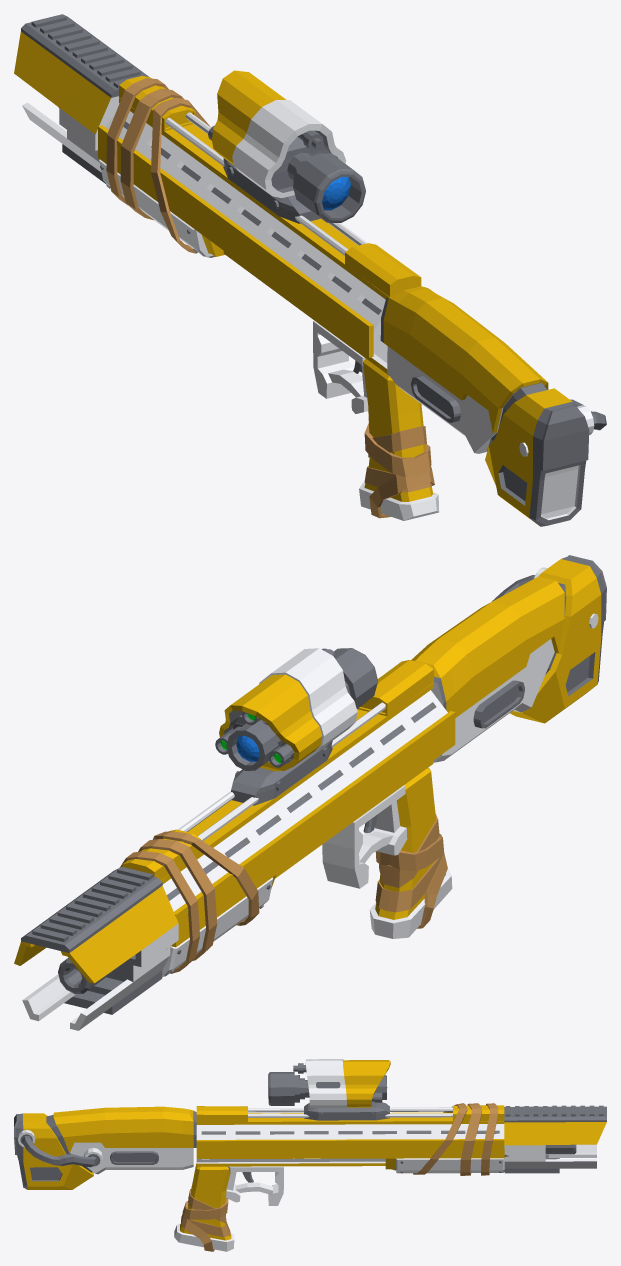
The model's file is gun.glb.
3 views of the same model, one above another, from view 1: azimuth 30°, elevation 25°; view 2: azimuth 150°, elevation 25°; view 3: azimuth 270°, elevation 25° (orthographic). The views are drawn at different scales.
Visible parts, largest first — view 1: Energy_Rifle_Metal_Yellow_0, Energy_Rifle_Metal_White_0, Energy_Rifle_Metal_Grey_0, Energy_Rifle_Bandage_0, Energy_Rifle_Lens_Blue_0; view 2: Energy_Rifle_Metal_Yellow_0, Energy_Rifle_Metal_White_0, Energy_Rifle_Metal_Grey_0, Energy_Rifle_Bandage_0; view 3: Energy_Rifle_Metal_Yellow_0, Energy_Rifle_Metal_White_0, Energy_Rifle_Metal_Grey_0, Energy_Rifle_Bandage_0.
Boxes of the visible parts, bbox=[...] form: Energy_Rifle_Metal_Yellow_0: bbox=[14, 31, 571, 523]; Energy_Rifle_Metal_White_0: bbox=[22, 96, 594, 520]; Energy_Rifle_Metal_Grey_0: bbox=[21, 14, 606, 526]; Energy_Rifle_Bandage_0: bbox=[106, 78, 434, 518]; Energy_Rifle_Lens_Blue_0: bbox=[322, 176, 350, 210]; Energy_Rifle_Metal_Yellow_0: bbox=[14, 559, 601, 983]; Energy_Rifle_Metal_White_0: bbox=[22, 567, 598, 1030]; Energy_Rifle_Metal_Grey_0: bbox=[21, 555, 606, 1014]; Energy_Rifle_Bandage_0: bbox=[120, 814, 447, 973]; Energy_Rifle_Metal_Yellow_0: bbox=[23, 1060, 606, 1240]; Energy_Rifle_Metal_White_0: bbox=[18, 1059, 596, 1251]; Energy_Rifle_Metal_Grey_0: bbox=[14, 1063, 606, 1189]; Energy_Rifle_Bandage_0: bbox=[181, 1103, 498, 1251].
Size of the model in its own units: 0.0674 by 0.2018 by 0.5781.
